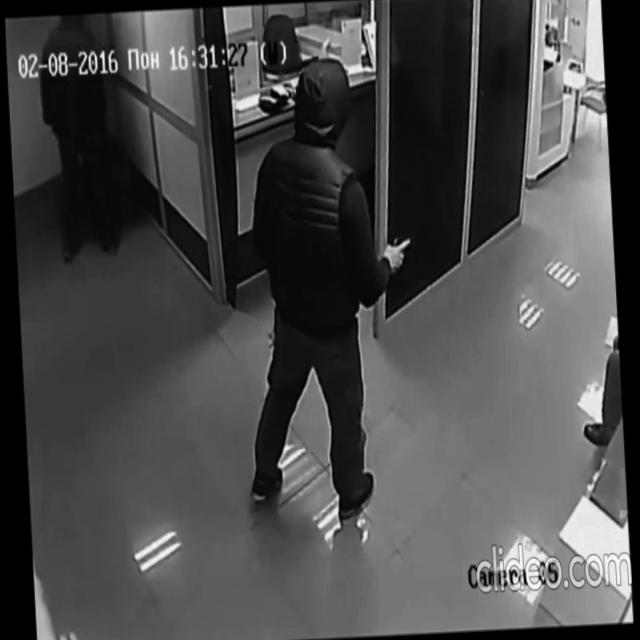gun: (380, 230, 414, 278)
person with a gun: (228, 50, 427, 528)
